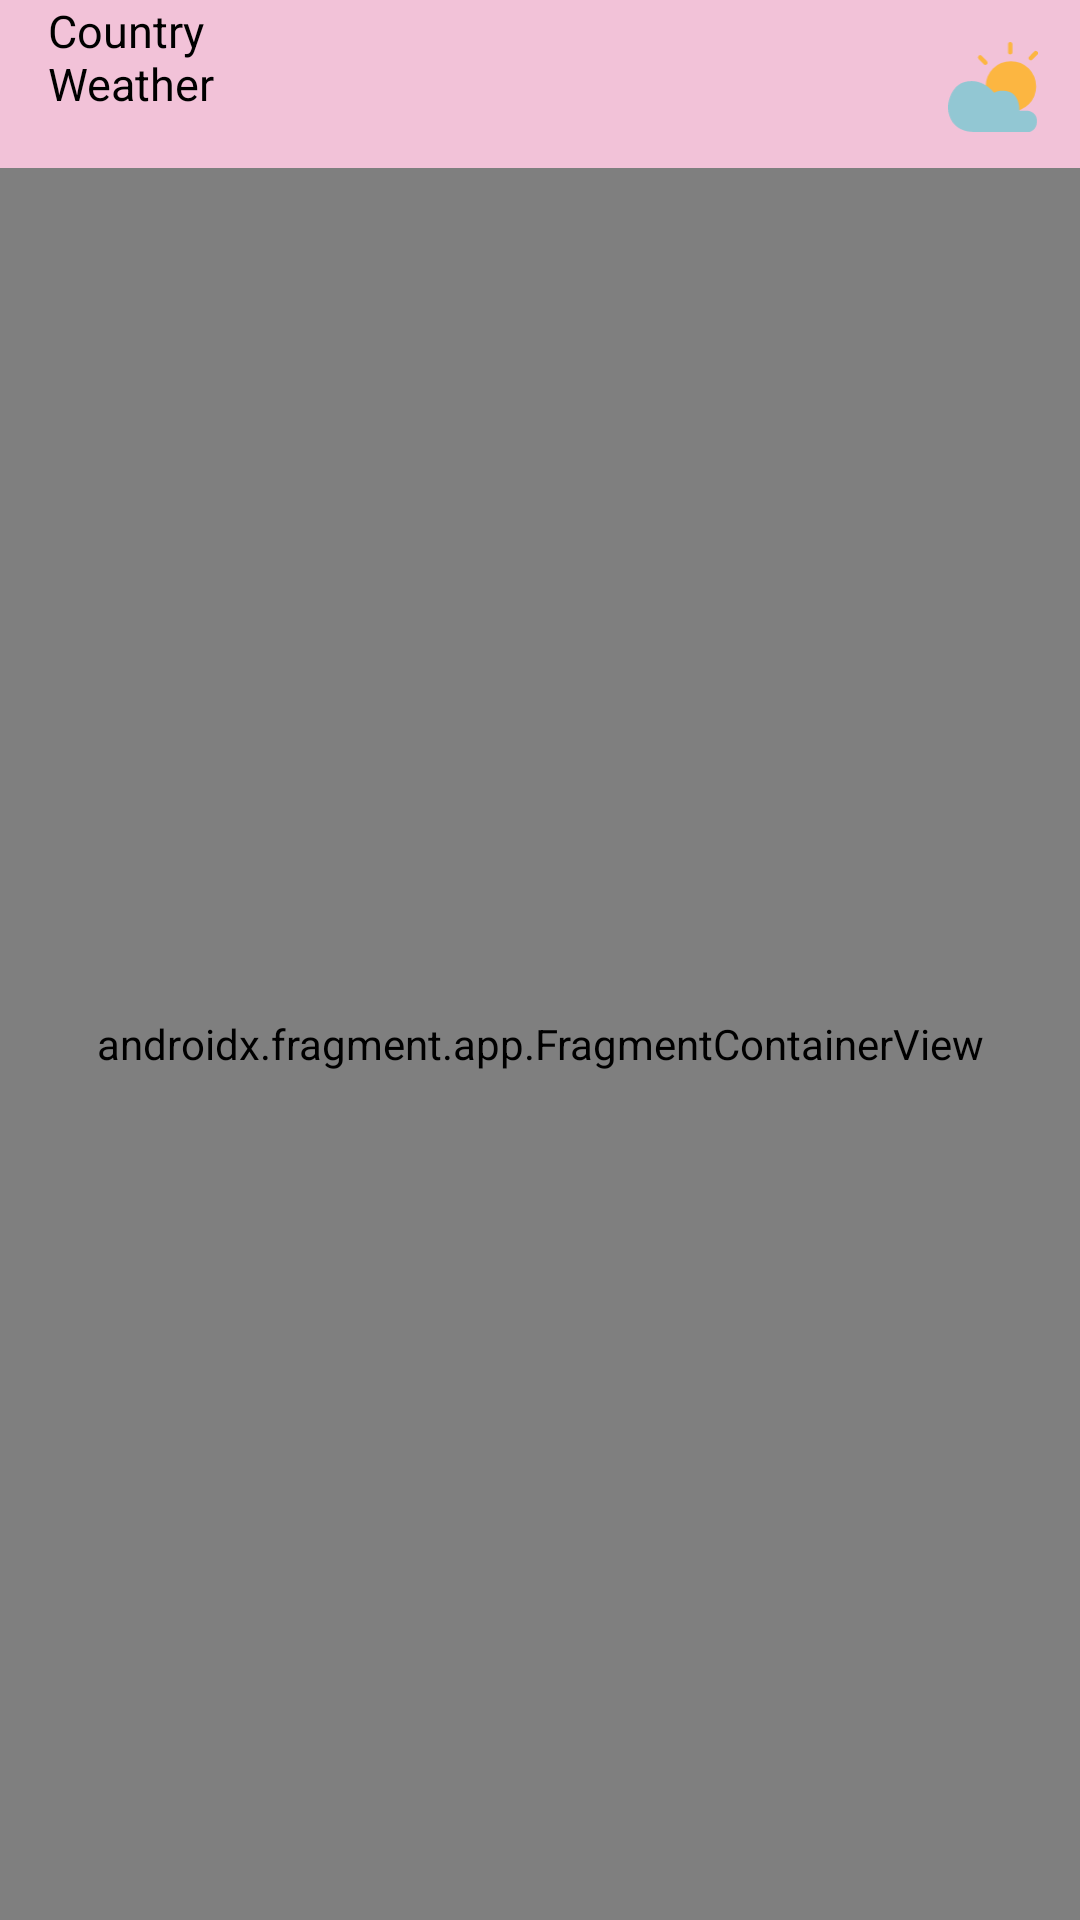

Where icons sit on this 1080×1920 app screen, as BBox(x1, y1, x2, y2):
weather forecast: BBox(948, 42, 1038, 132)
